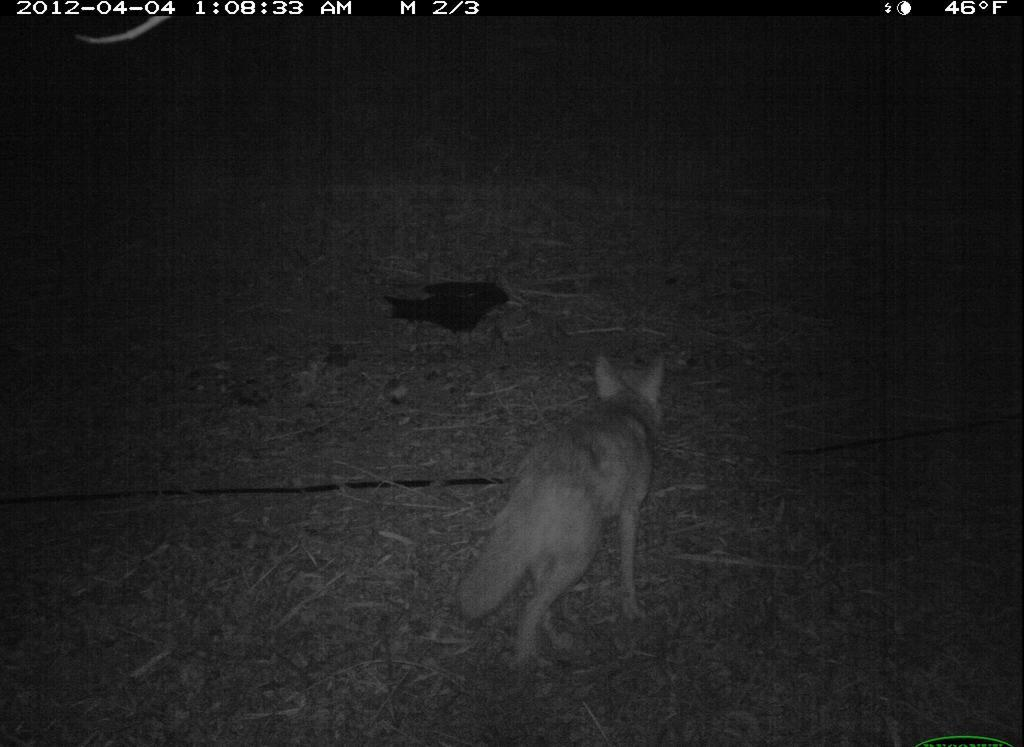coyote: (447, 349, 684, 689)
